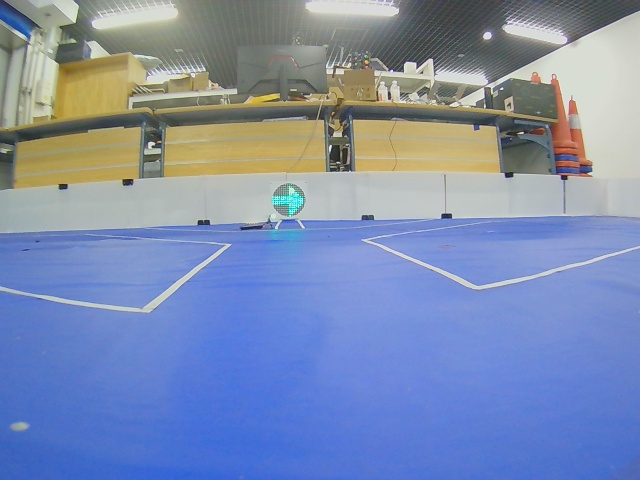right_green: (271, 183, 306, 217)
